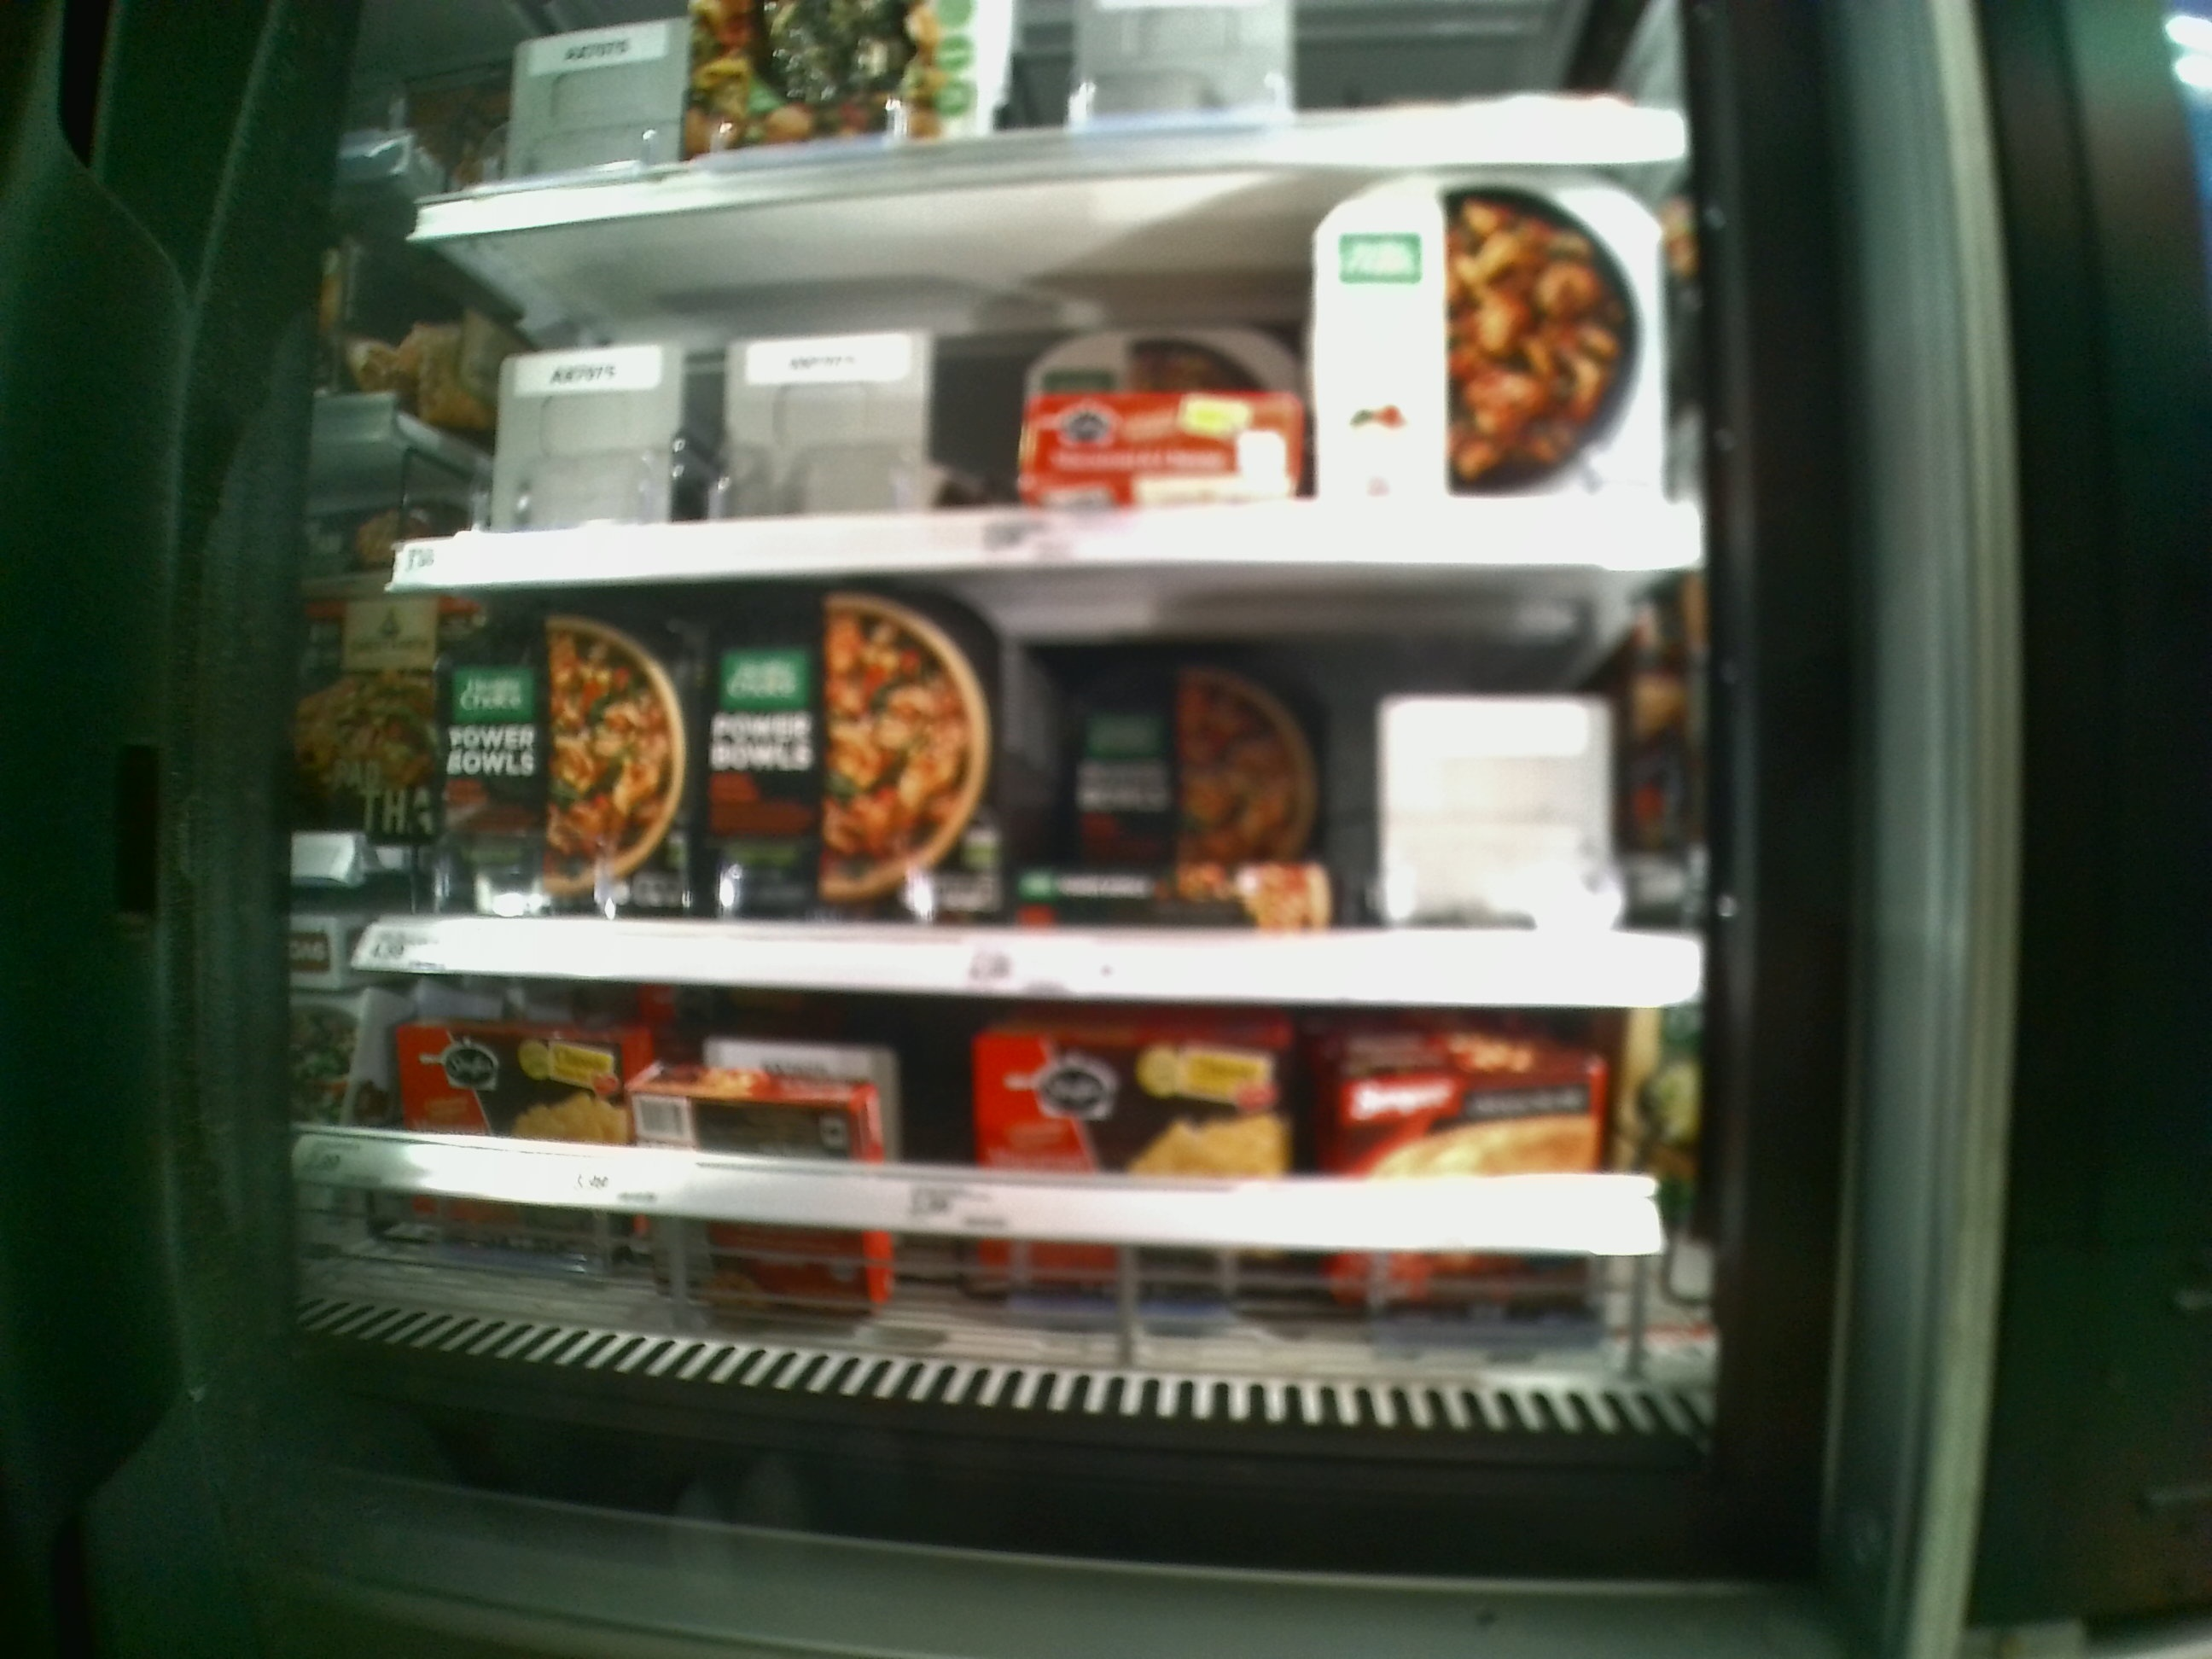shelf: (376, 586, 1724, 1004), (334, 969, 1740, 1366), (387, 157, 1709, 572)
